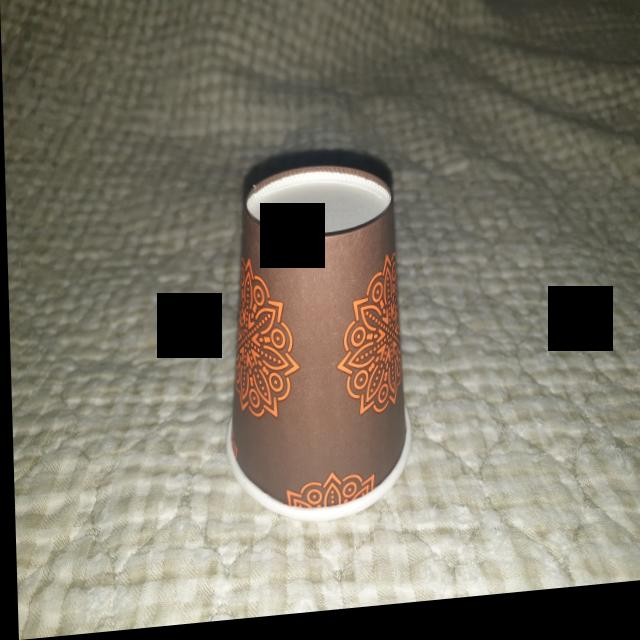cups: (216, 160, 416, 535)
